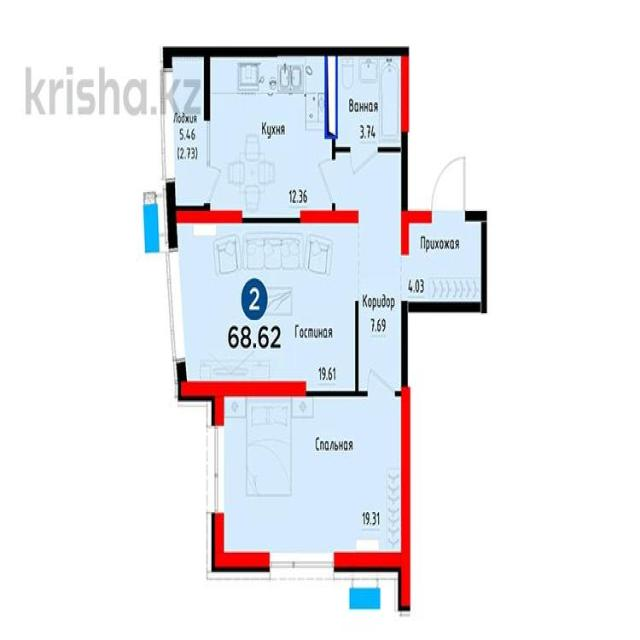balcony: (166, 49, 209, 213)
bathroom: (336, 50, 406, 149)
hallway: (360, 149, 402, 394), (406, 218, 484, 305)
kitchen: (208, 51, 334, 223)
living_room: (177, 224, 360, 393), (217, 400, 404, 564)
